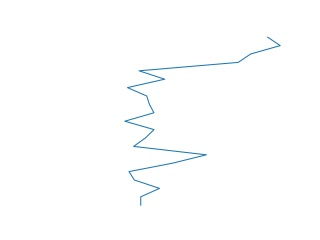crevasseRiverChannelBar: (120, 33, 287, 208)
